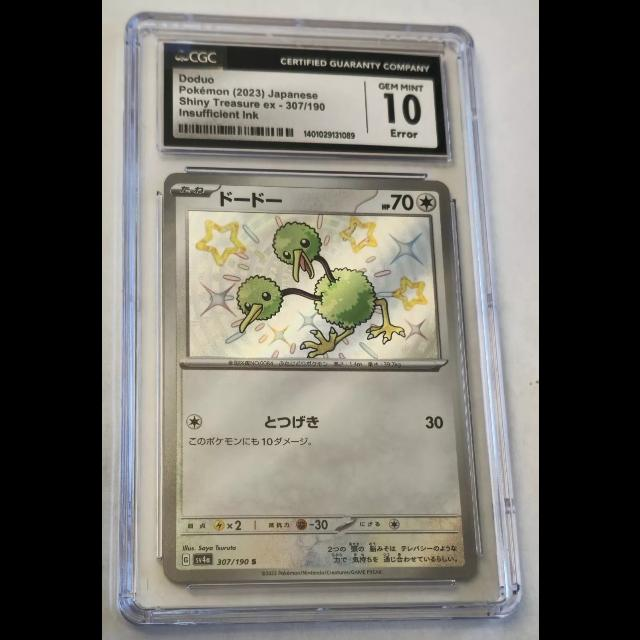card: (161, 171, 478, 583)
cgc_label: (162, 42, 448, 155)
cgc_slab: (116, 10, 524, 627)
